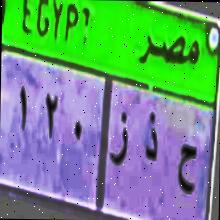0: (72, 118, 84, 150)
1: (15, 84, 30, 131)
2: (43, 90, 59, 140)
7aa: (176, 142, 197, 202)
zaal: (141, 108, 158, 164)
zay: (108, 108, 129, 172)
